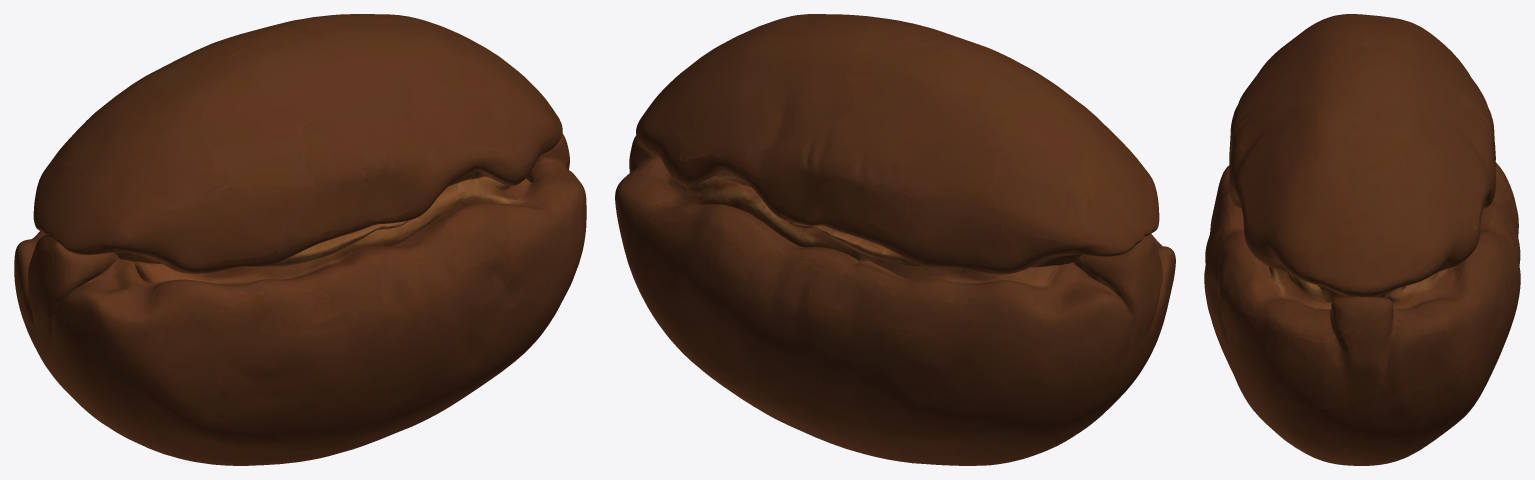
The model's file is grano.glb.
The picture shows the model from 3 angles, left to right: view 1: azimuth 30°, elevation 25°; view 2: azimuth 150°, elevation 25°; view 3: azimuth 270°, elevation 25°; orthographic projection. The views are drawn at different scales.
Size of the model in its own units: 1.9 by 1.45 by 1.09.
1 material, 1 textured.
